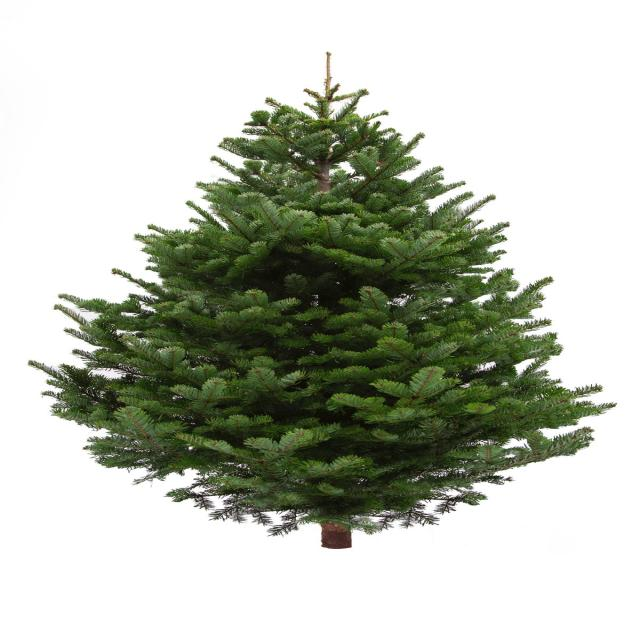Christmas-tree: (0, 18, 632, 602)
